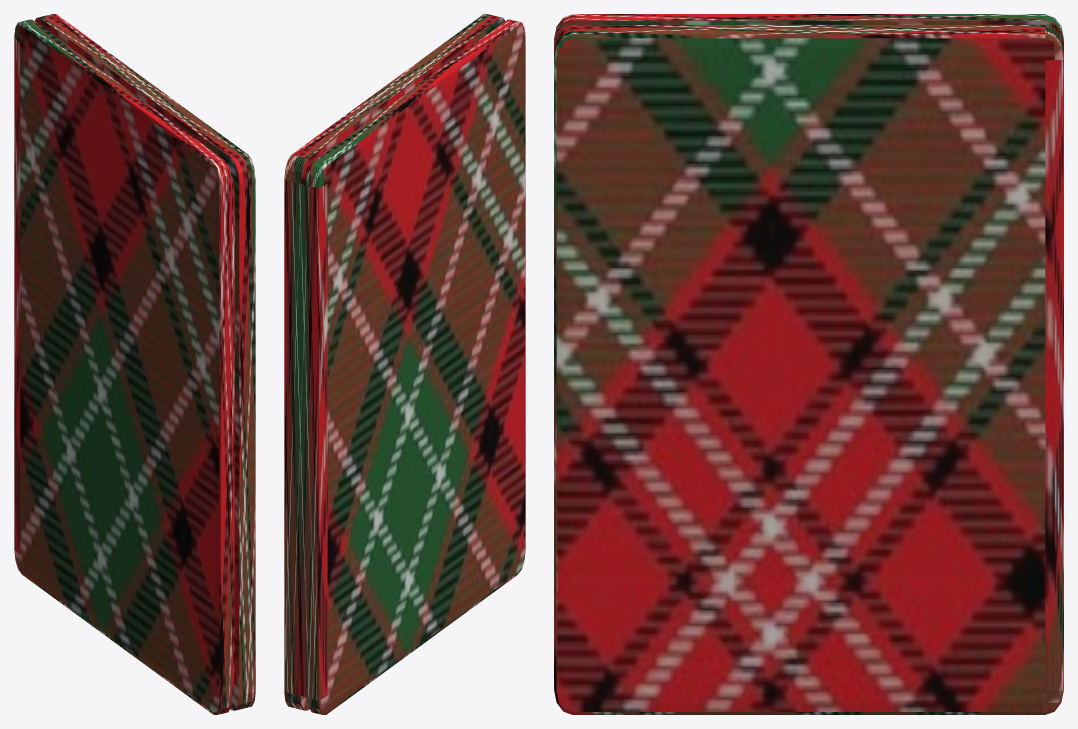
File: Wrapped 4.fbx
3 renders of one model, left to right at view 1: azimuth 30°, elevation 25°; view 2: azimuth 150°, elevation 25°; view 3: azimuth 270°, elevation 25°, orthographic. The views are drawn at different scales.
Visible parts, largest first — view 1: Cube.001; view 2: Cube.001; view 3: Cube.001.
Boxes of the visible parts, x1,y1,x2,y2 form: Cube.001: [14, 14, 255, 714]; Cube.001: [284, 14, 525, 714]; Cube.001: [554, 14, 1063, 714].
Bounding box in the file's own units: 1.1 × 15.6 × 10.6.
Materials: 1 (1 with a texture image).
